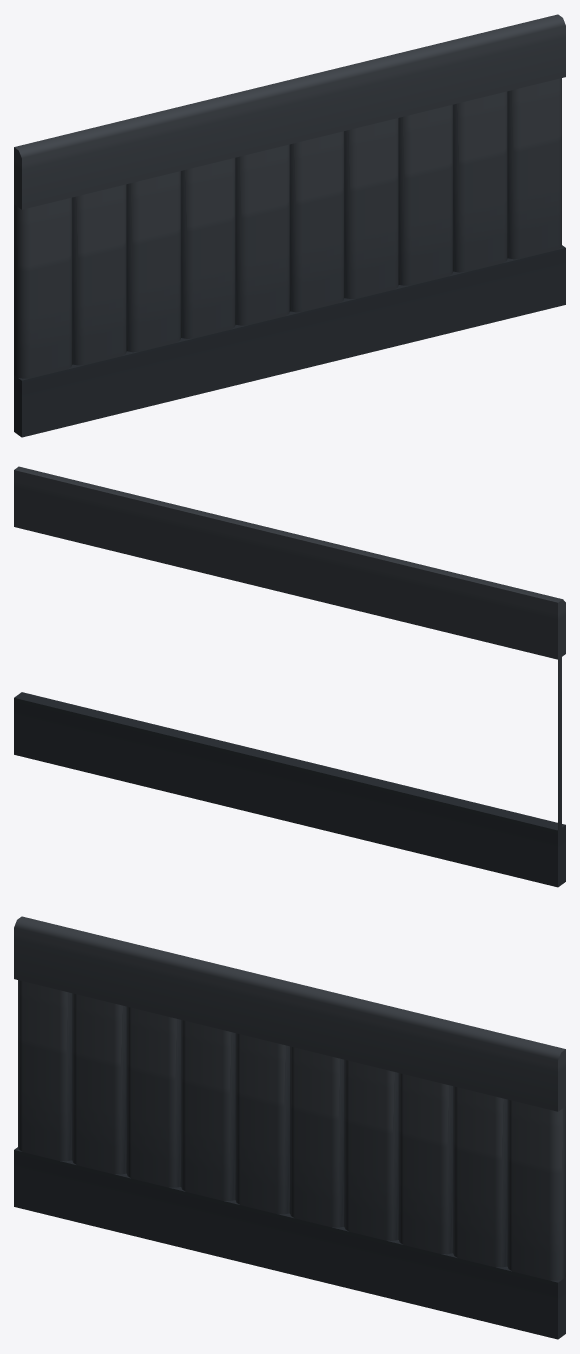
The model's file is Panel_Black_02.glb.
The picture shows the model from 3 angles, top to bottom: view 1: azimuth 30°, elevation 25°; view 2: azimuth 150°, elevation 25°; view 3: azimuth 330°, elevation 25°; orthographic projection.
Parts seen in each view (by area): view 1: Panel_Black_02; view 2: Panel_Black_02; view 3: Panel_Black_02.
Part boxes in pixels (x1=…): Panel_Black_02: x1=14, y1=14, x2=565, y2=437; Panel_Black_02: x1=14, y1=466, x2=565, y2=887; Panel_Black_02: x1=14, y1=916, x2=565, y2=1339.
Size of the model in its own units: 2 by 1 by 0.05.
1 material, 1 textured.
